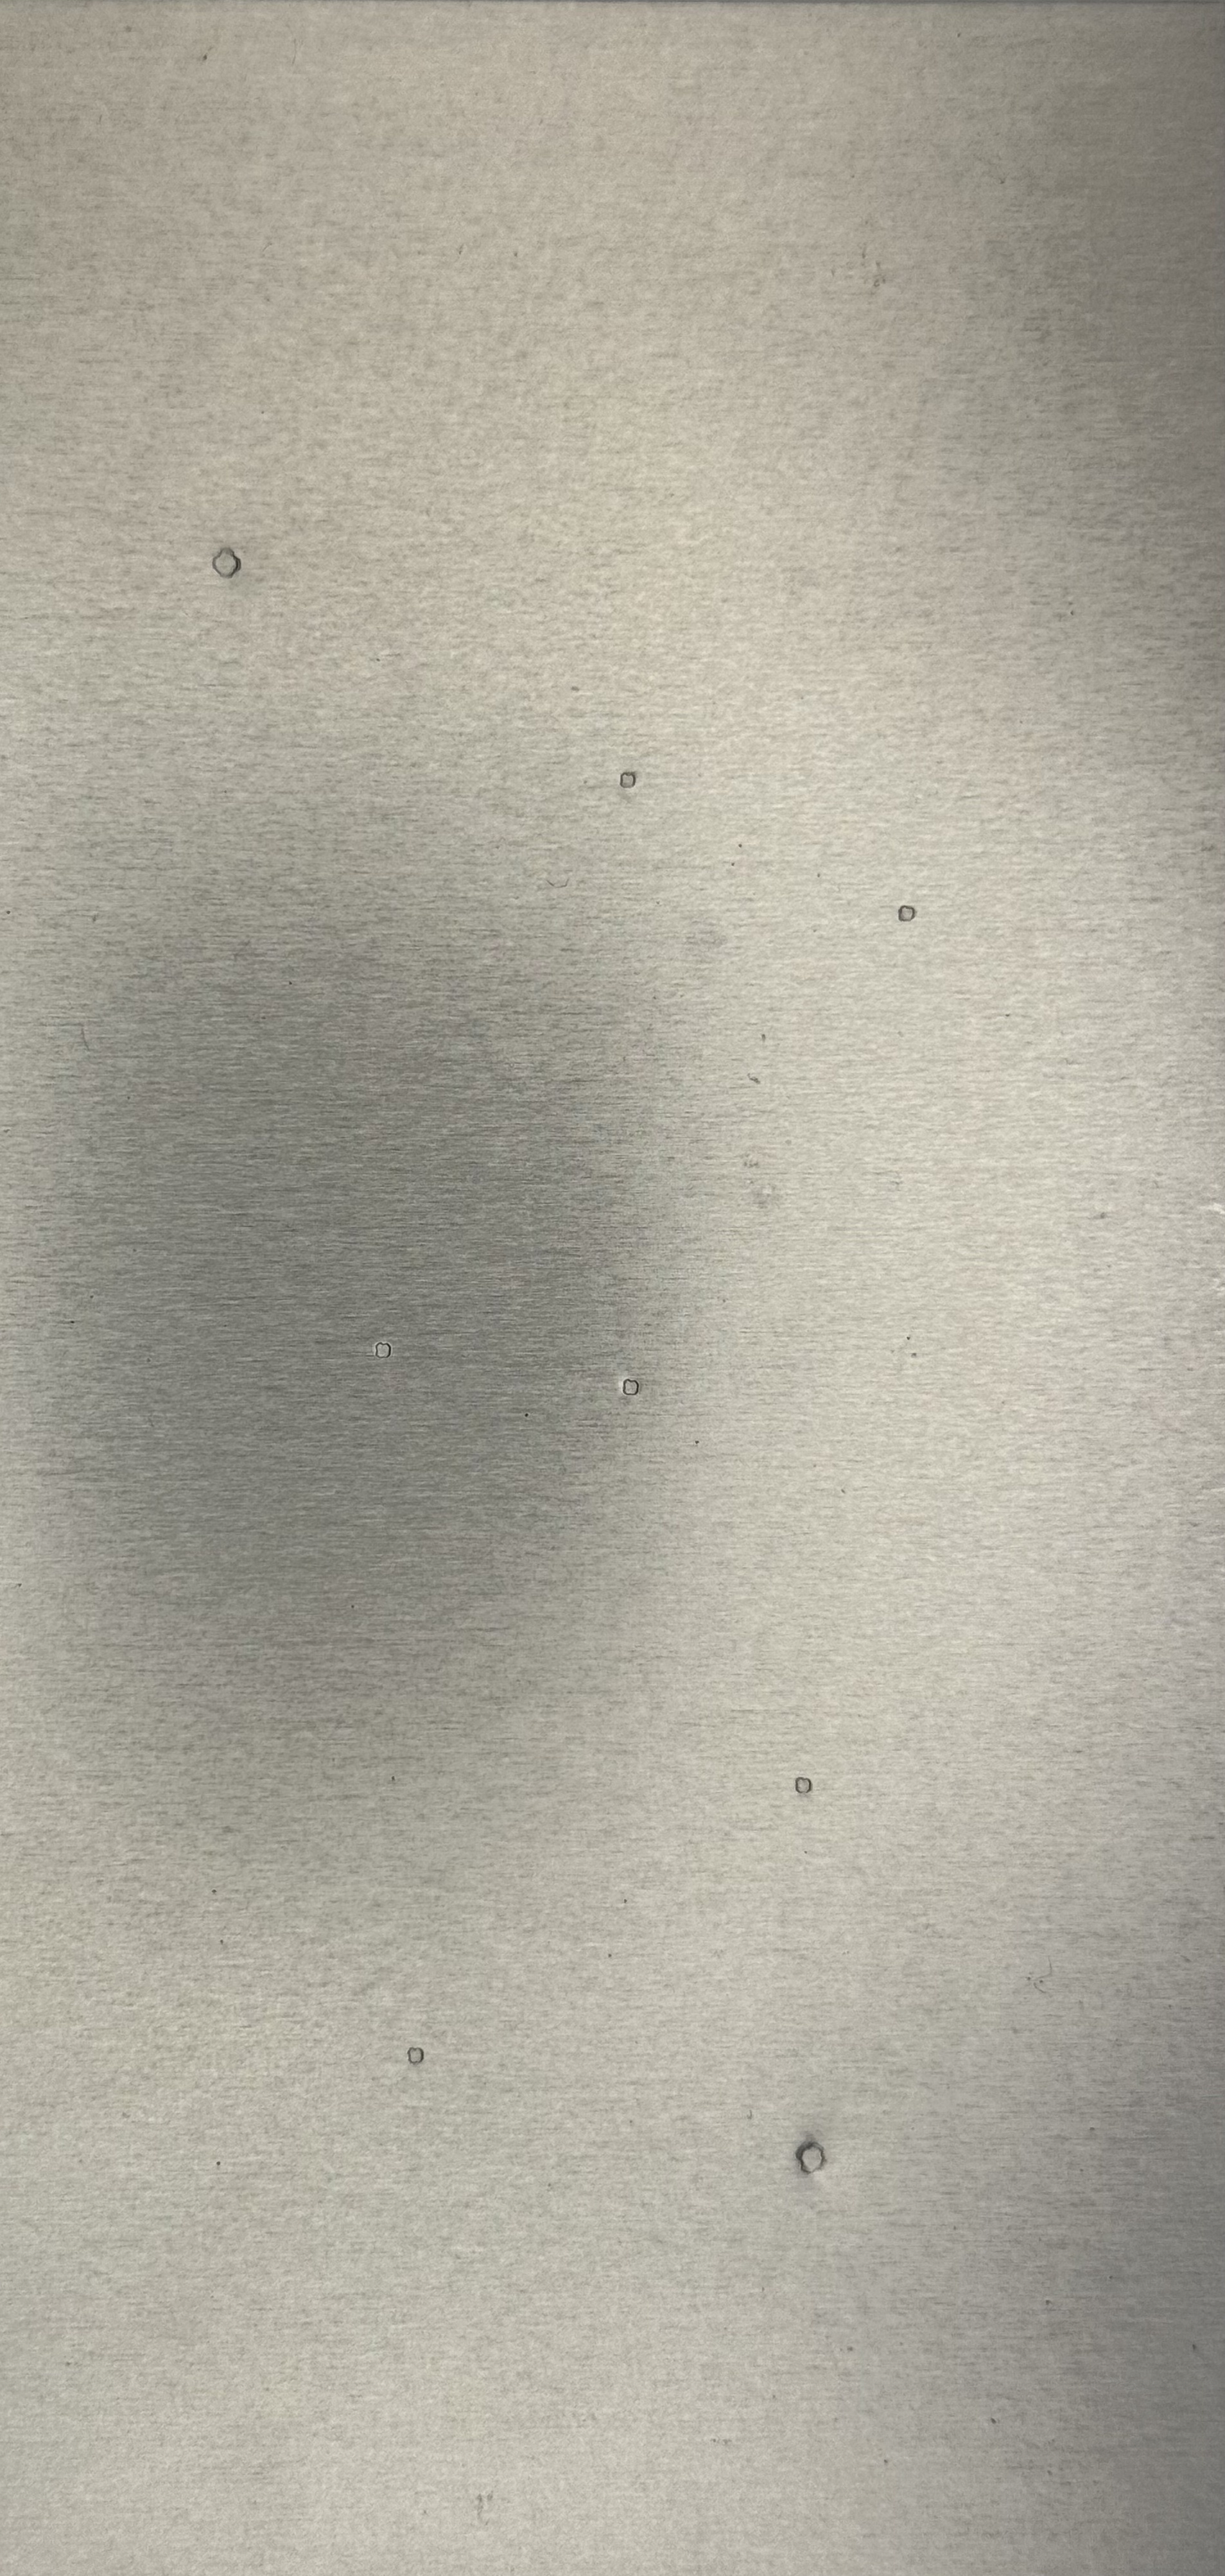Delle: (777, 2121, 846, 2190), (194, 524, 256, 593), (767, 1759, 829, 1810), (608, 1359, 657, 1411), (365, 1329, 406, 1372), (892, 895, 931, 935), (614, 757, 645, 803), (399, 2035, 434, 2075)
